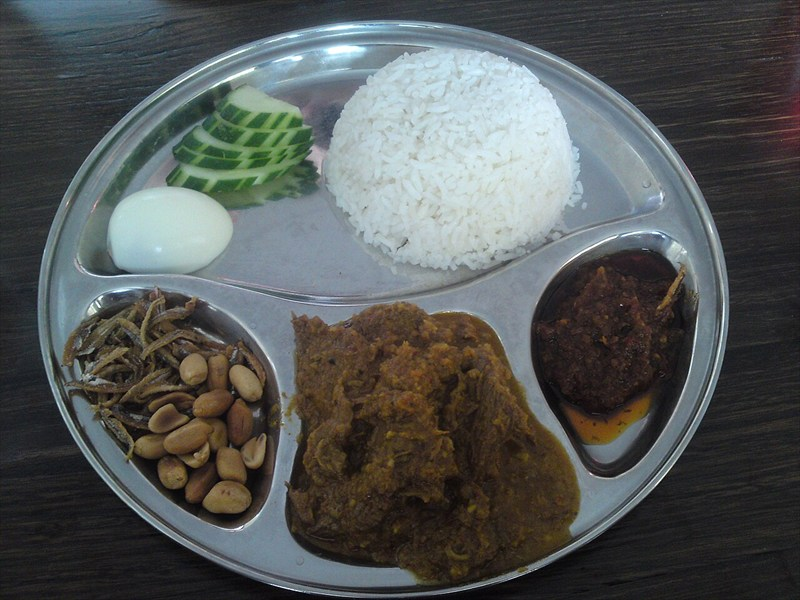Rendang: (77, 19, 693, 516)
